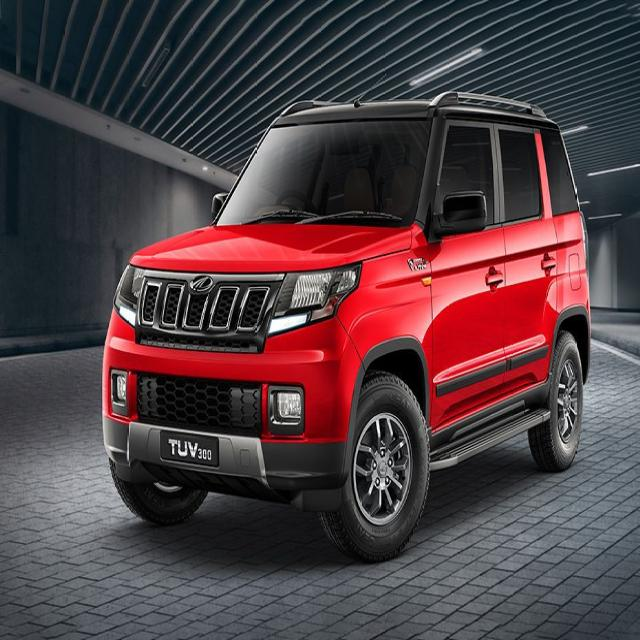light_vehicle: (102, 99, 590, 560)
